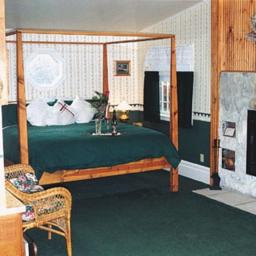Cama: (10, 33, 178, 173)
